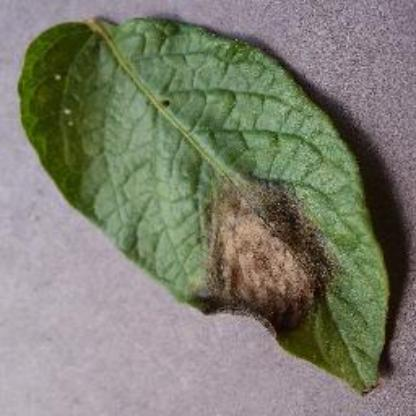Late-Blight: (12, 10, 394, 394)
